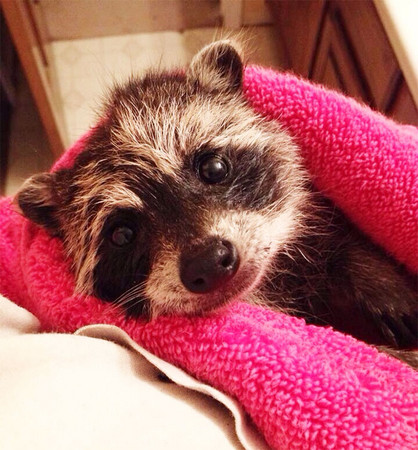raccoon: (6, 29, 417, 377)
